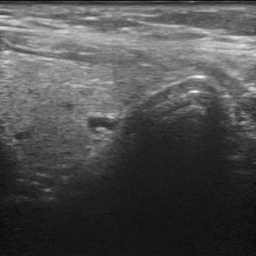mass: (83, 105, 117, 139)
